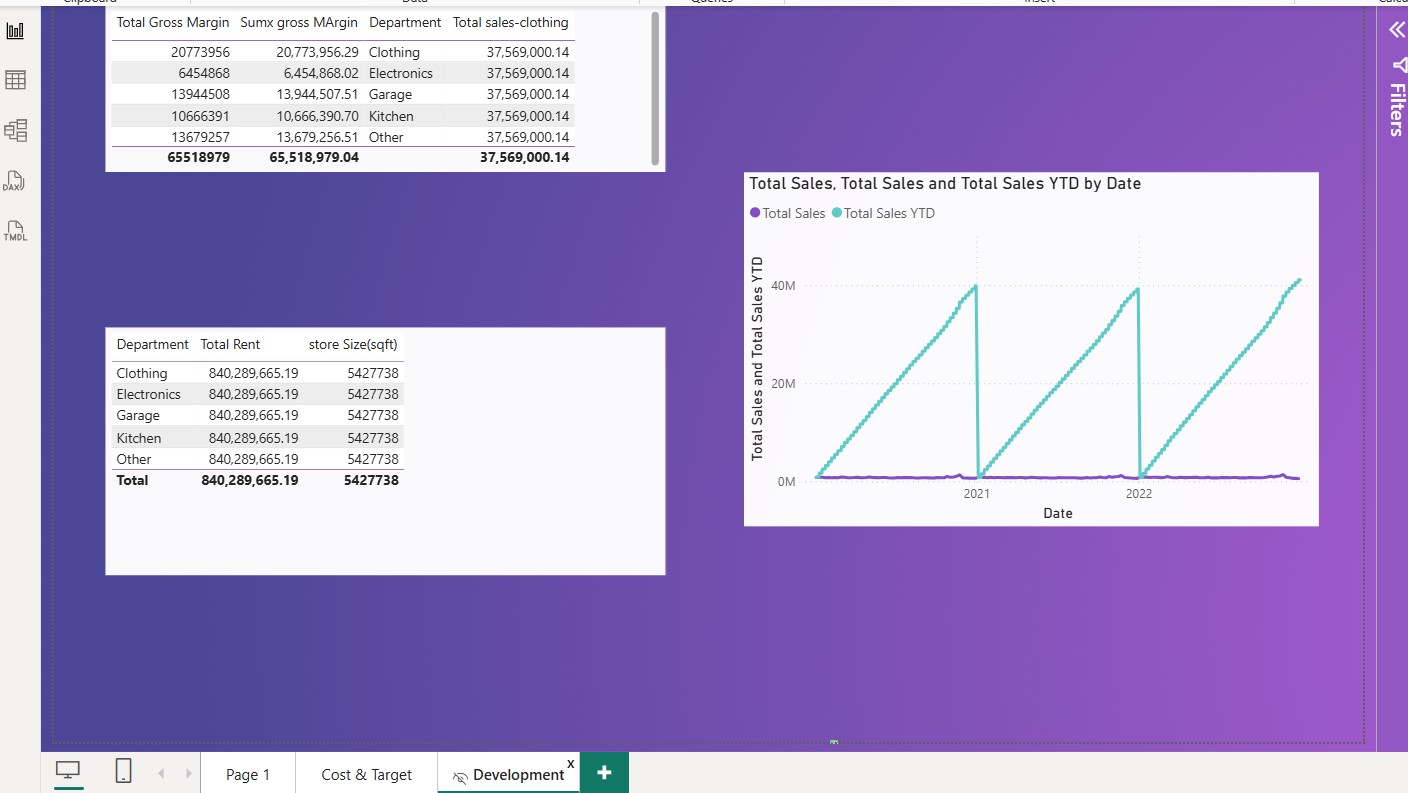

What the dashboard file says about the page in this screenshot:
{"tool":"powerbi","page":{"name":"Development","canvas":[1280,720],"ordinal":2},"visuals":[{"type":"tableEx","fields":{"Values":["Retail Sales.Total Gross Margin","Categories.Sumx gross MArgin","Categories.Department","Retail Sales.Total sales-clothing"]},"box":[50.6,0,547.8,162.7],"z":0},{"type":"lineChart","fields":{"Category":["Date.Date"],"Y":["Retail Sales.Total Sales","Retail Sales.Total Sales","Categories.Total Sales YTD"]},"box":[675,162.6,562.5,346.1],"z":1000},{"type":"tableEx","fields":{"Values":["Categories.Department","Retail cost.Total Rent","Retail cost.store Size(sqft)"]},"box":[50.6,314.6,547.8,242.3],"z":2000}]}

Visuals, with their boxes on the page's 1280x720 design canvas (x1, y1, x2, y2). These are canvas units, not pixel positions in the 1408x793 screenshot, which may show the page scaled, cropped or inside an application window:
tableEx - Retail Sales.Total Gross Margin x Categories.Sumx gross MArgin: Rect(51, 0, 598, 163)
lineChart - Date.Date x Retail Sales.Total Sales: Rect(675, 163, 1238, 509)
tableEx - Categories.Department x Retail cost.Total Rent: Rect(51, 315, 598, 557)
